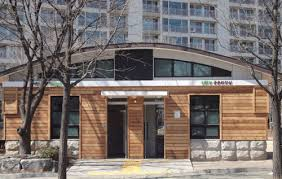guide_blocks: (91, 169, 164, 174)
